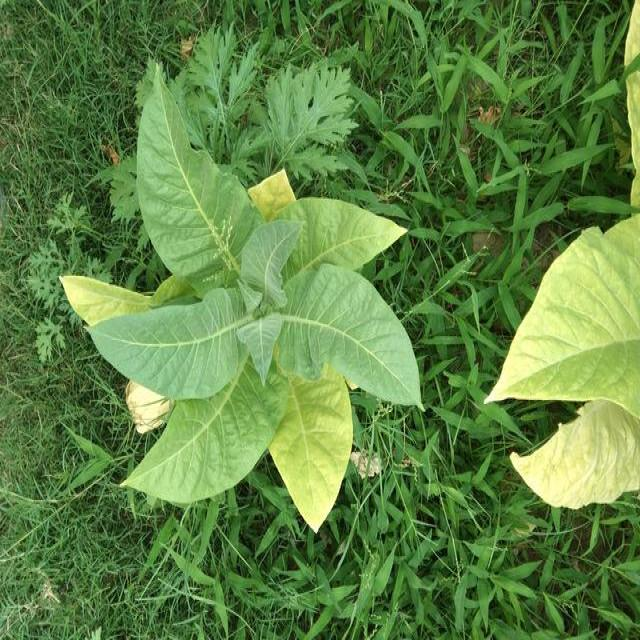crop: (56, 55, 406, 512)
